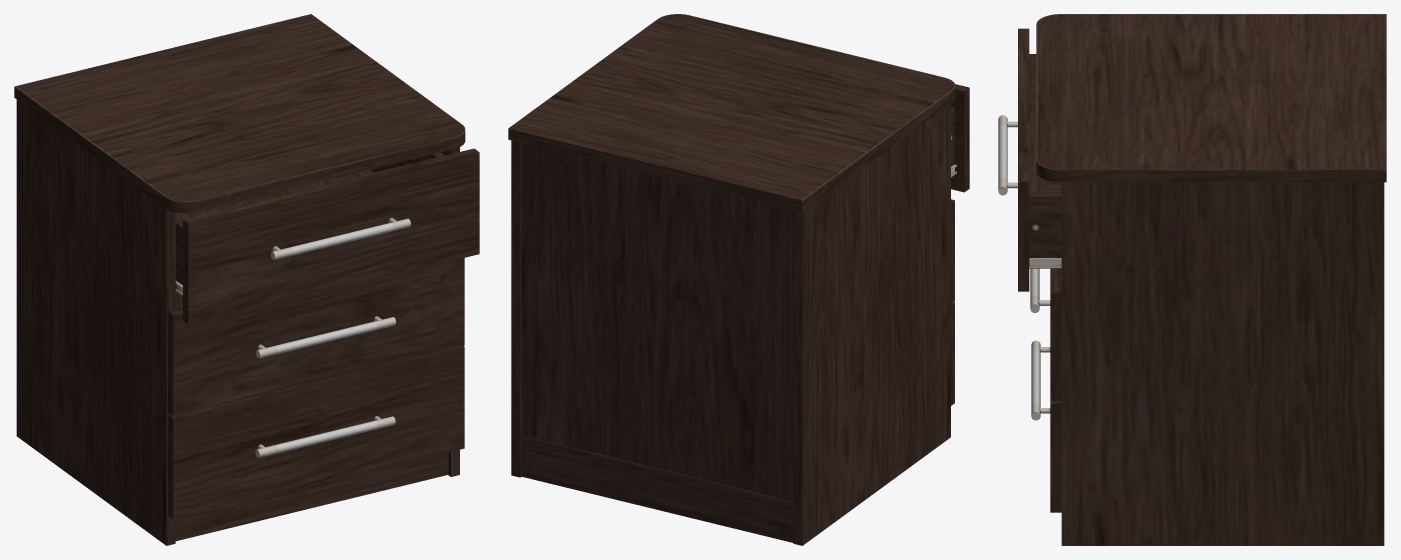
The model's file is nightstand_bedside_table_melon_polygons.glb.
3 views of the same model, side by side, from view 1: azimuth 30°, elevation 25°; view 2: azimuth 150°, elevation 25°; view 3: azimuth 270°, elevation 25° (orthographic). The views are drawn at different scales.
Visible parts, largest first — view 1: Bedside_Table_2_LP_Bedside_Table_1_0, Bedside_Table_2_LP_Bedside_Table_2_0; view 2: Bedside_Table_2_LP_Bedside_Table_1_0; view 3: Bedside_Table_2_LP_Bedside_Table_1_0, Bedside_Table_2_LP_Bedside_Table_2_0.
Boxes of the visible parts, left/top/right/bottom form: Bedside_Table_2_LP_Bedside_Table_1_0: left=14, top=14, right=479, bottom=545; Bedside_Table_2_LP_Bedside_Table_2_0: left=175, top=218, right=411, bottom=457; Bedside_Table_2_LP_Bedside_Table_1_0: left=508, top=14, right=969, bottom=545; Bedside_Table_2_LP_Bedside_Table_1_0: left=1018, top=14, right=1386, bottom=545; Bedside_Table_2_LP_Bedside_Table_2_0: left=998, top=115, right=1061, bottom=420.
Size of the model in its own units: 1.97 by 2.22 by 2.07.
2 materials, 2 textured.
